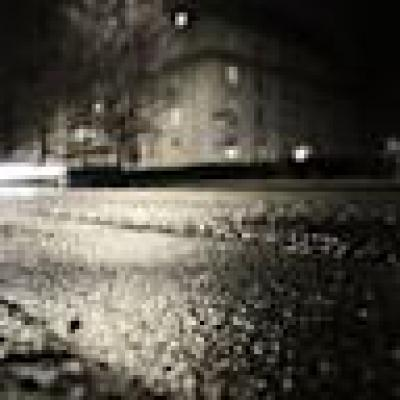iced-road: (0, 192, 400, 400)
